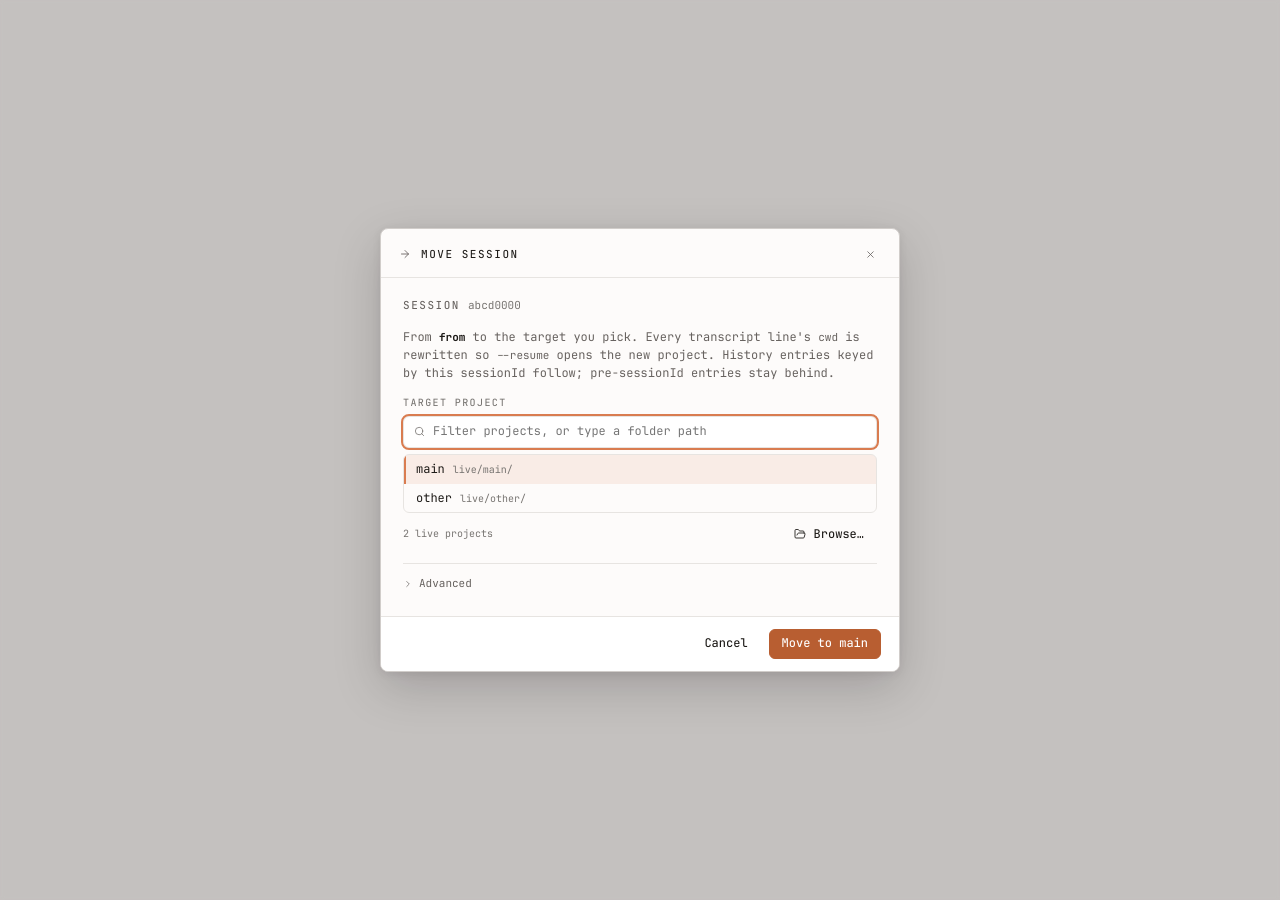
MoveSessionModal › refuses a path that is a file, stating the reason inline
Type "/notes.txt" into the dropdown at (650, 432), box [433,423,866,440]
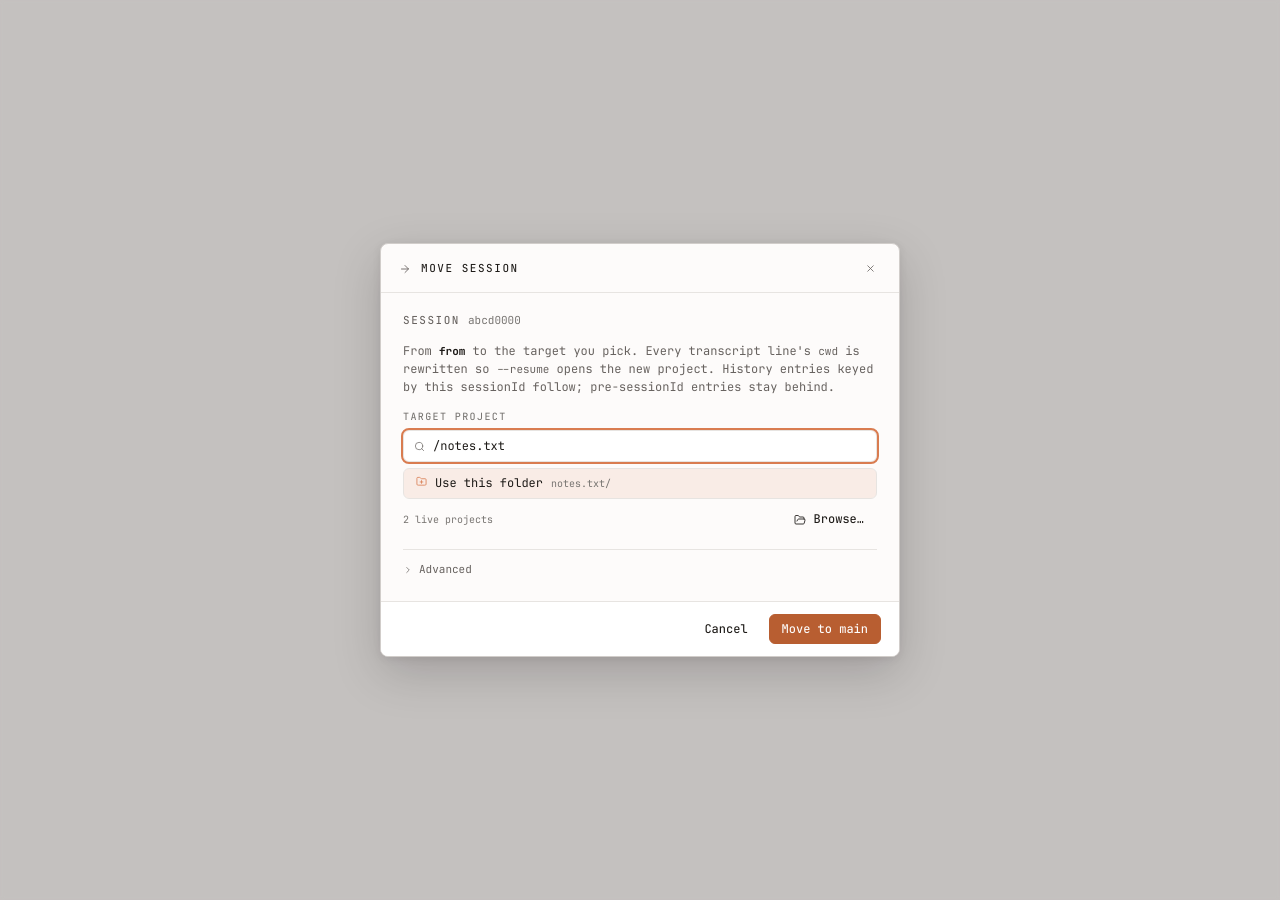
Click the option "Use this folder /notes.txt" at (489, 483), box [404,469,876,498]
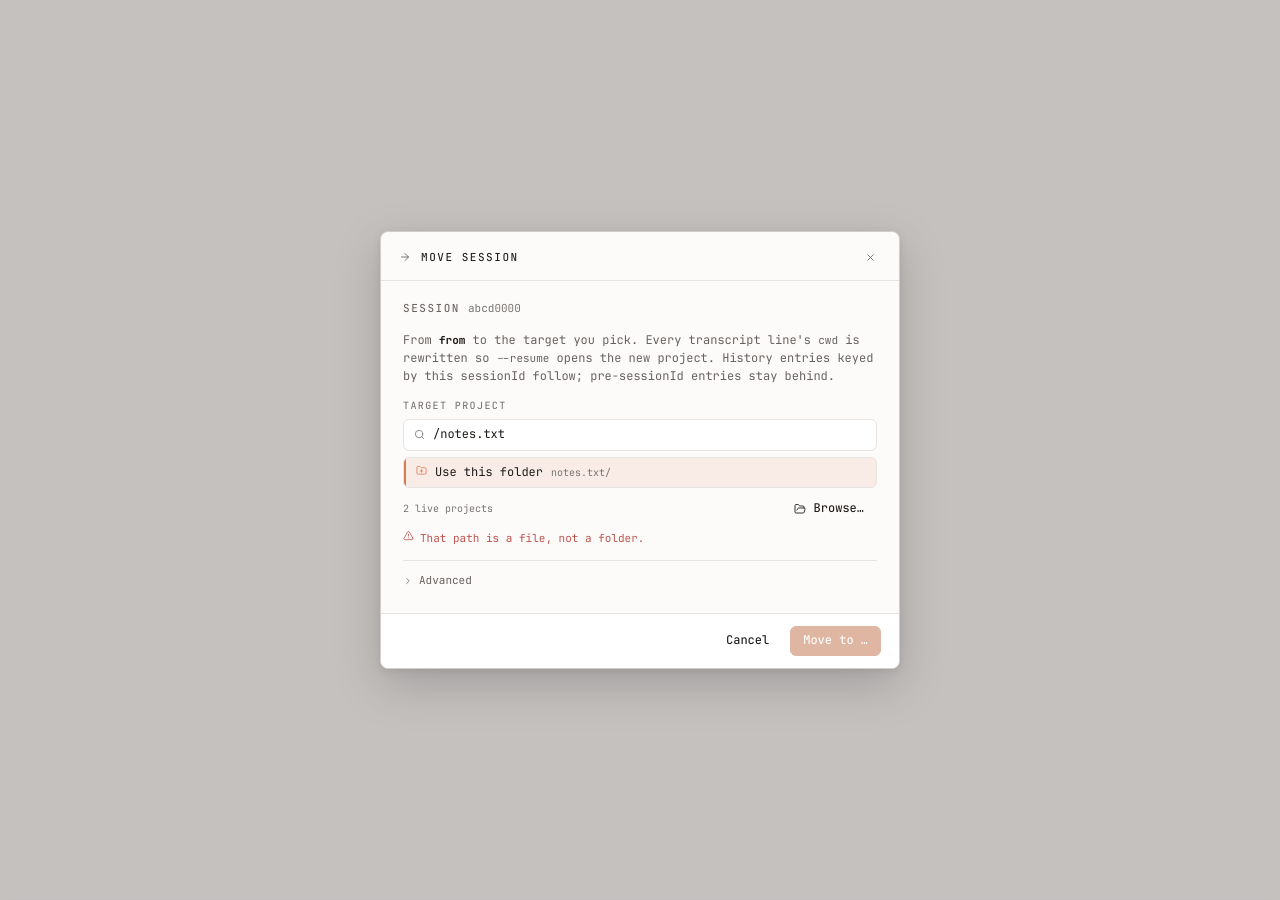
Expected: the message shows "file, not a folder", [420,531,644,545]
Expected: the button "Move to …" is disabled, [790,626,881,656]
